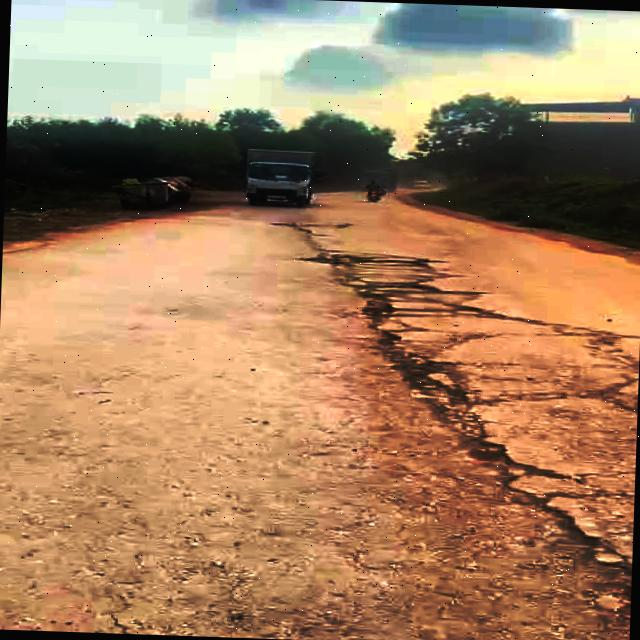pothole: (380, 341, 474, 409), (298, 251, 432, 270), (347, 279, 400, 326)
